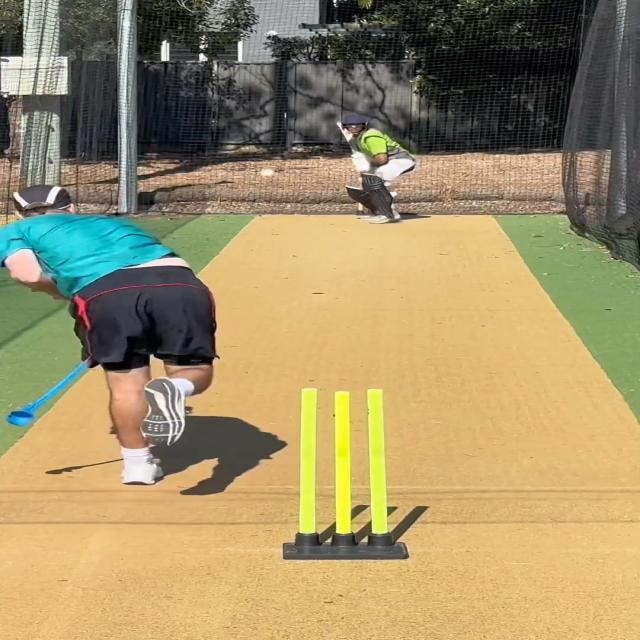ball: (258, 166, 278, 179)
stump: (282, 388, 409, 560)
